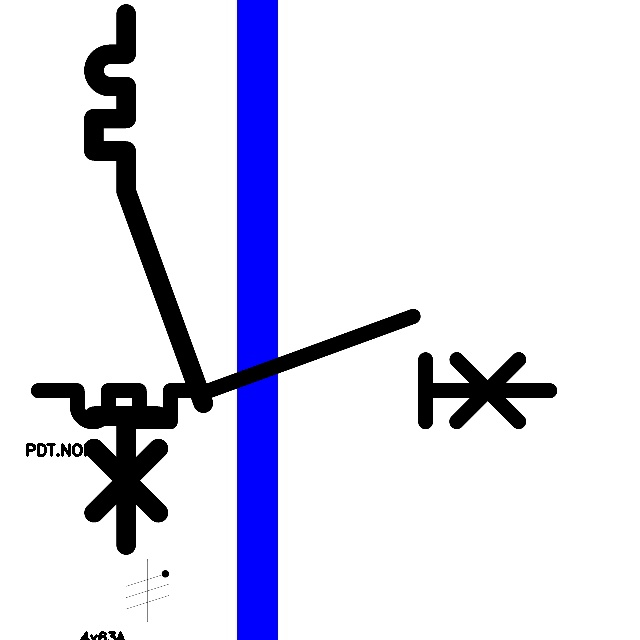interruptor_termomagnetico: (80, 0, 217, 559), (25, 303, 563, 435)
